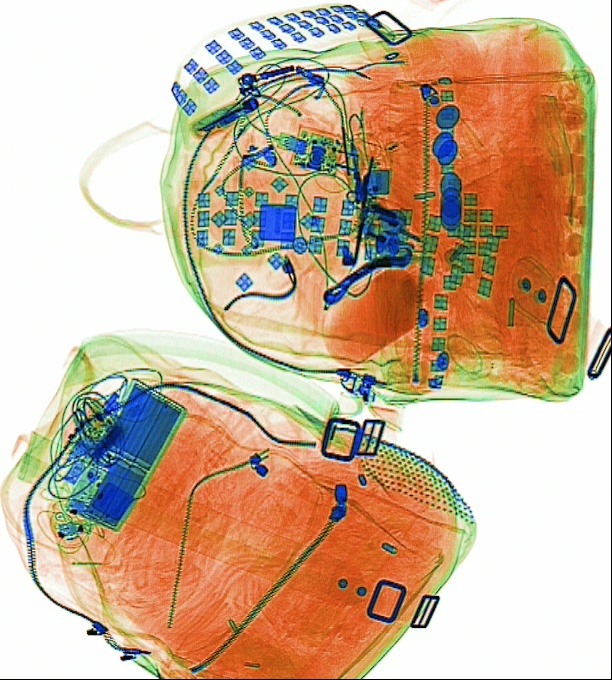powerbank: (62, 375, 187, 535)
